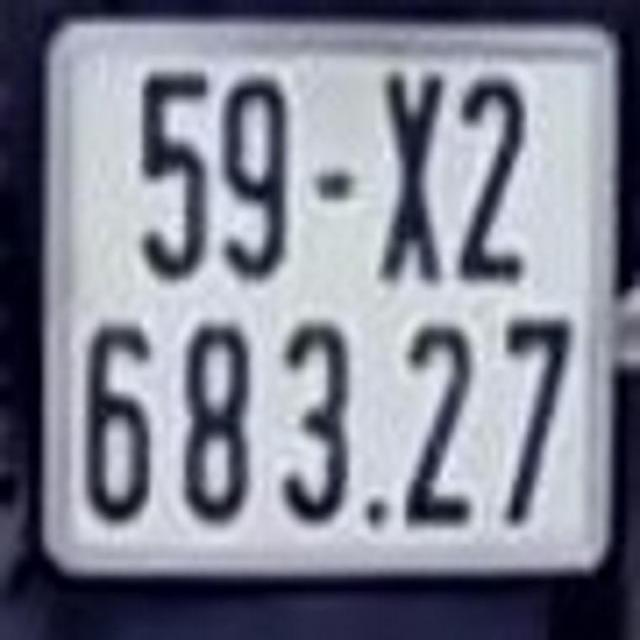2: (454, 62, 526, 286), (402, 313, 475, 529)
3: (280, 316, 348, 527)
5: (133, 58, 211, 280)
6: (76, 327, 160, 520)
7: (494, 310, 577, 534)
8: (180, 322, 253, 525)
9: (214, 66, 294, 284)
X: (378, 62, 450, 284)
